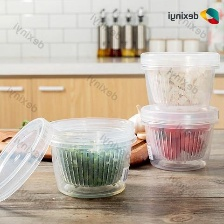plastic_box: (0, 112, 139, 205), (136, 99, 224, 177), (136, 45, 224, 114)
